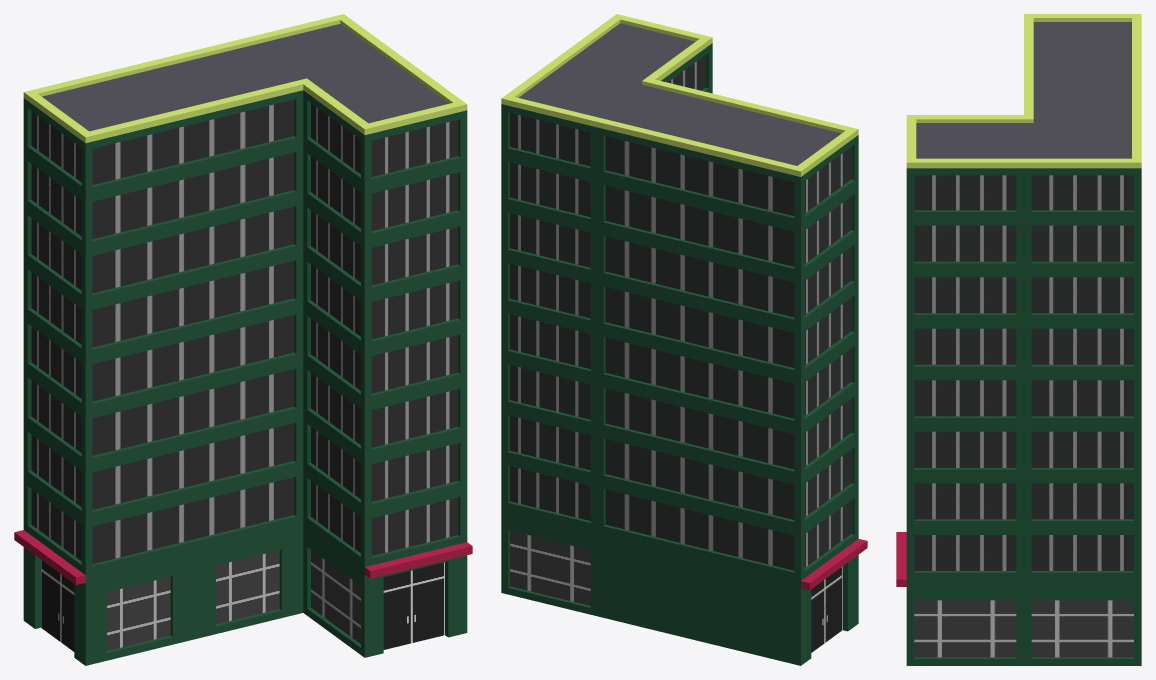
Rendered from building21a.FBX.
3 views of the same model, side by side, from view 1: azimuth 30°, elevation 25°; view 2: azimuth 150°, elevation 25°; view 3: azimuth 270°, elevation 25° (orthographic). The views are drawn at different scales.
Parts seen in each view (by area): view 1: building21a; view 2: building21a; view 3: building21a.
Boxes of the visible parts, box(x1,y1,x2,y2) form: building21a: box(14, 14, 472, 665); building21a: box(501, 14, 867, 665); building21a: box(896, 14, 1141, 665).
Size of the model in its own units: 30.84 by 47.27 by 20.88.
